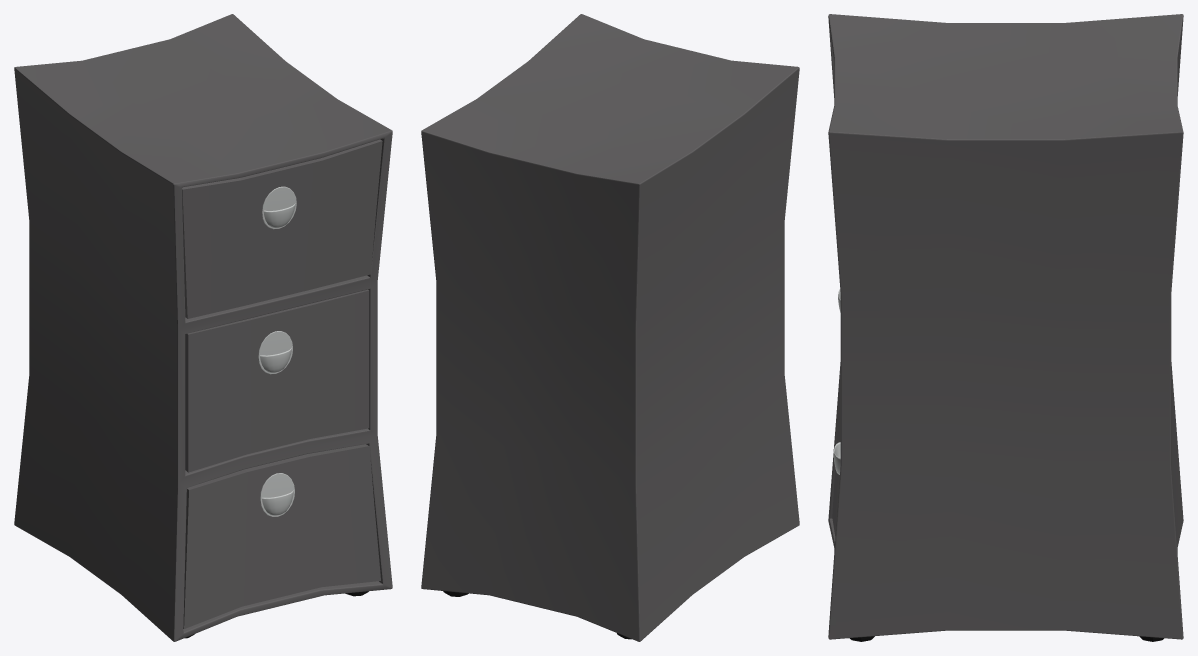
File: filing-cabinet.glb
3 renders of one model, left to right at view 1: azimuth 30°, elevation 25°; view 2: azimuth 150°, elevation 25°; view 3: azimuth 270°, elevation 25°, orthographic. The views are drawn at different scales.
Visible parts, largest first — view 1: Object_2, Object_5, Object_4, Object_3; view 2: Object_2; view 3: Object_2, Object_5.
Boxes of the visible parts, x1,y1,x2,y2 form: Object_2: [14, 14, 392, 641]; Object_5: [183, 444, 380, 628]; Object_4: [185, 289, 369, 472]; Object_3: [182, 139, 382, 318]; Object_2: [421, 14, 799, 641]; Object_2: [828, 14, 1183, 641]; Object_5: [832, 374, 840, 536].
Bounding box in the file's own units: 2.83 × 5.75 × 3.58.
Materials: 4 (4 with a texture image).
